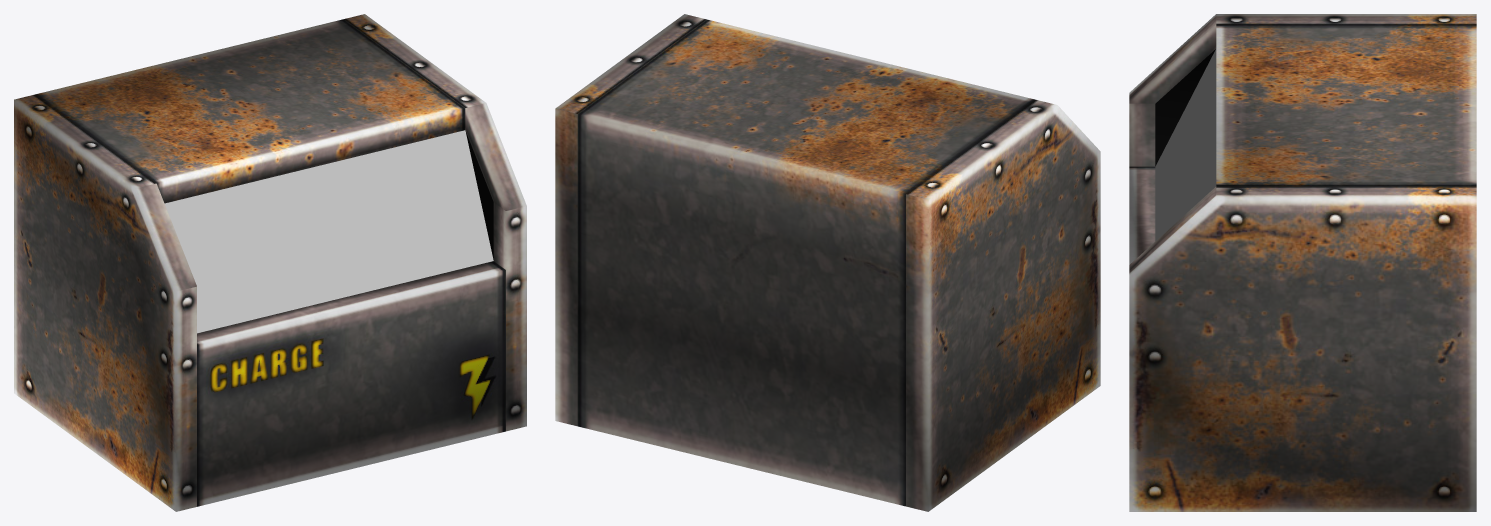
Rendered from generator.fbx.
The picture shows the model from 3 angles, left to right: view 1: azimuth 30°, elevation 25°; view 2: azimuth 150°, elevation 25°; view 3: azimuth 270°, elevation 25°; orthographic projection. The views are drawn at different scales.
Visible parts, largest first — view 1: generator, chargeMeter; view 2: generator; view 3: generator, chargeMeter.
Part boxes in pixels (x1,y1,x2,y2): generator: (14, 14, 526, 511); chargeMeter: (164, 130, 493, 333); generator: (555, 14, 1100, 511); generator: (1129, 14, 1476, 511); chargeMeter: (1155, 49, 1216, 240).
Bounding box in the file's own units: 1.25 × 1 × 1.
